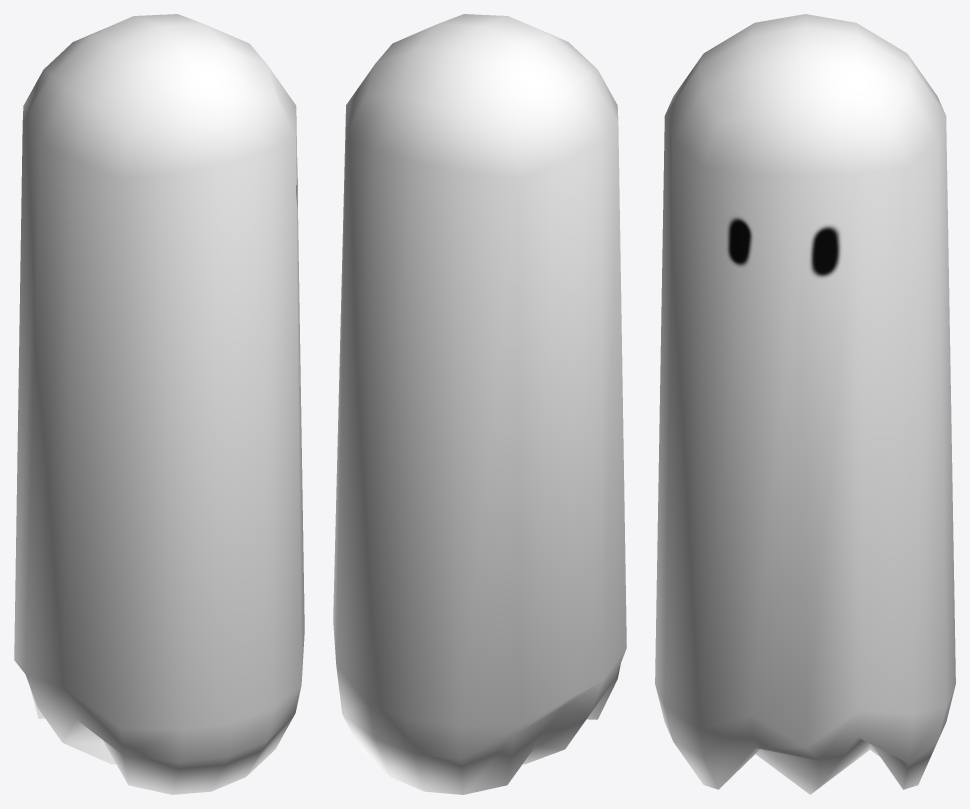
The model's file is GhostNormal.fbx.
The picture shows the model from 3 angles, left to right: view 1: azimuth 30°, elevation 25°; view 2: azimuth 150°, elevation 25°; view 3: azimuth 270°, elevation 25°; orthographic projection. The views are drawn at different scales.
Parts seen in each view (by area): view 1: Roundcube; view 2: Roundcube; view 3: Roundcube.
Part boxes in pixels (bbox=[...]): Roundcube: bbox=[14, 14, 304, 794]; Roundcube: bbox=[333, 14, 626, 794]; Roundcube: bbox=[655, 14, 955, 794].
Size of the model in its own units: 400 by 1105 by 400.
